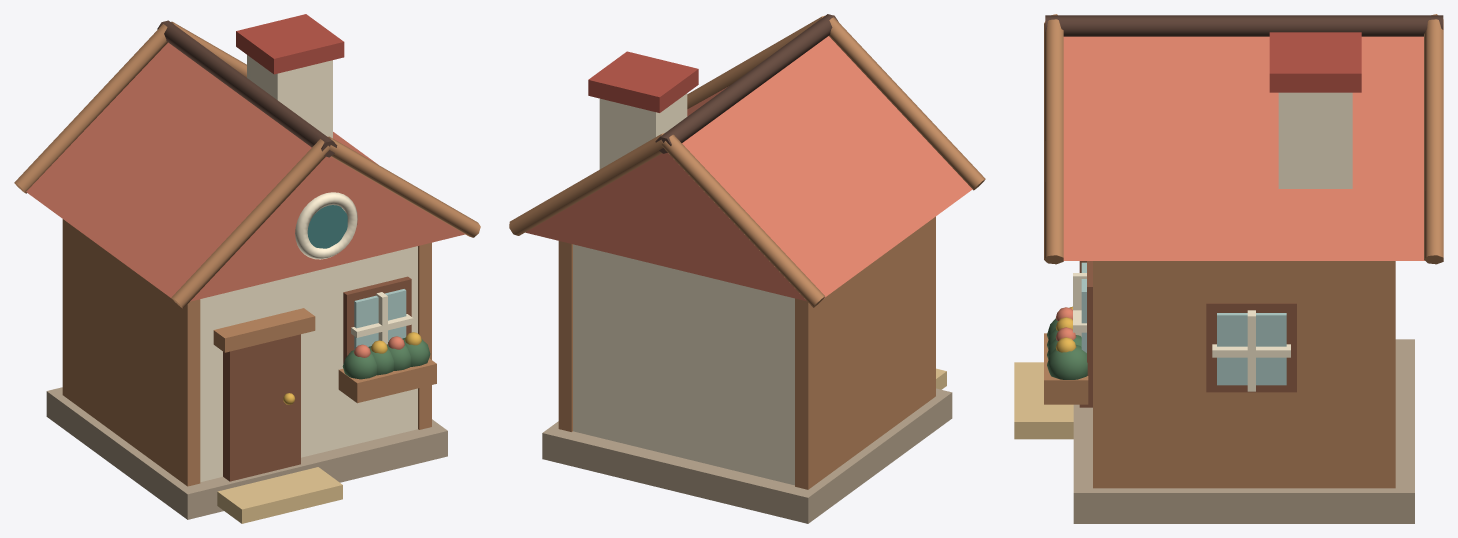
File: cottage-coral.glb
3 renders of one model, left to right at view 1: azimuth 30°, elevation 25°; view 2: azimuth 150°, elevation 25°; view 3: azimuth 270°, elevation 25°, orthographic. The views are drawn at different scales.
Parts seen in each view (by area): view 1: surface_#df8269, surface_#be8960, surface_#fff2d6, surface_#936047, surface_#bca991, surface_#b95648, surface_#e7c994, surface_#62473b, surface_#577d5b, surface_#b7d5cf, surface_#4b8584; view 2: surface_#df8269, surface_#fff2d6, surface_#be8960, surface_#bca991, surface_#b95648, surface_#62473b; view 3: surface_#be8960, surface_#df8269, surface_#bca991, surface_#fff2d6, surface_#62473b, surface_#b95648, surface_#b7d5cf, surface_#936047, surface_#e7c994, surface_#577d5b.
Part boxes in pixels (bbox=[...]): surface_#df8269: bbox=[26, 42, 465, 357]; surface_#be8960: bbox=[14, 21, 480, 486]; surface_#fff2d6: bbox=[200, 55, 417, 482]; surface_#936047: bbox=[223, 276, 411, 481]; surface_#bca991: bbox=[46, 387, 447, 519]; surface_#b95648: bbox=[236, 14, 344, 74]; surface_#e7c994: bbox=[217, 467, 342, 523]; surface_#62473b: bbox=[157, 20, 337, 157]; surface_#577d5b: bbox=[342, 337, 430, 379]; surface_#b7d5cf: bbox=[354, 289, 406, 349]; surface_#4b8584: bbox=[307, 205, 347, 248]; surface_#df8269: bbox=[525, 36, 972, 301]; surface_#fff2d6: bbox=[573, 93, 794, 485]; surface_#be8960: bbox=[509, 15, 985, 489]; surface_#bca991: bbox=[542, 388, 952, 523]; surface_#b95648: bbox=[588, 51, 698, 112]; surface_#62473b: bbox=[655, 14, 838, 153]; surface_#be8960: bbox=[1044, 14, 1443, 488]; surface_#df8269: bbox=[1056, 36, 1424, 340]; surface_#bca991: bbox=[1073, 339, 1414, 523]; surface_#fff2d6: bbox=[1073, 92, 1352, 391]; surface_#62473b: bbox=[1045, 15, 1443, 36]; surface_#b95648: bbox=[1269, 32, 1361, 92]; surface_#b7d5cf: bbox=[1081, 262, 1286, 385]; surface_#936047: bbox=[1079, 261, 1296, 407]; surface_#e7c994: bbox=[1014, 362, 1073, 439]; surface_#577d5b: bbox=[1047, 318, 1087, 379].
Size of the model in its own units: 2.88 by 3.25 by 2.89.
